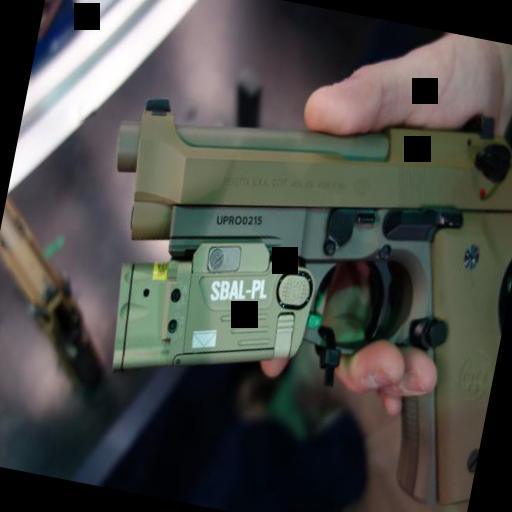Handgun: (58, 44, 512, 509)
